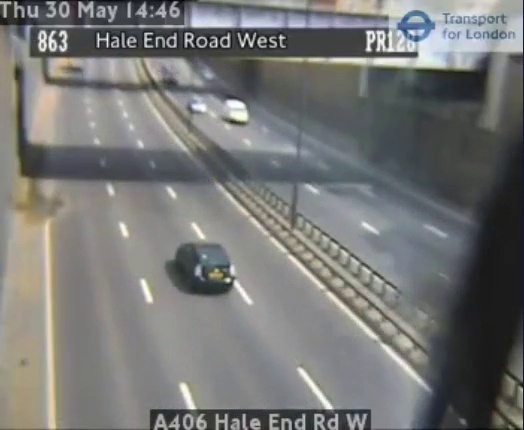car: (176, 242, 236, 293)
